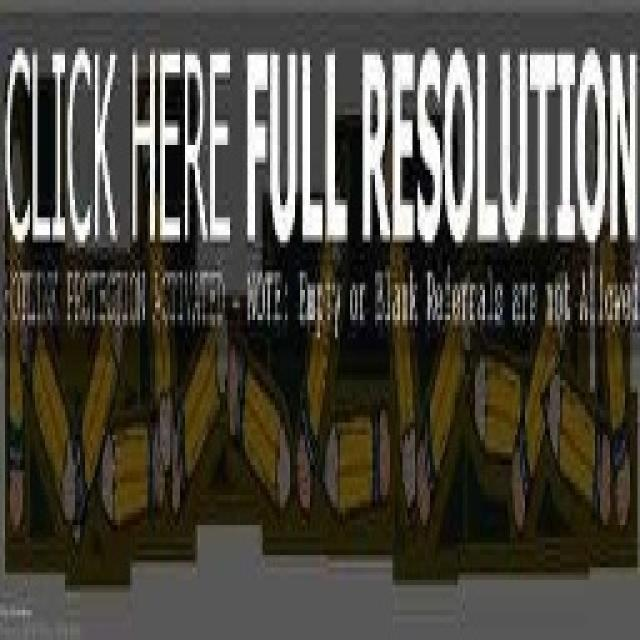pencil: (0, 2, 638, 590)
